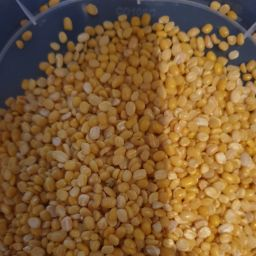Red Split Lentils(malka masar): (22, 18, 256, 256), (48, 40, 254, 255), (31, 55, 165, 256)
